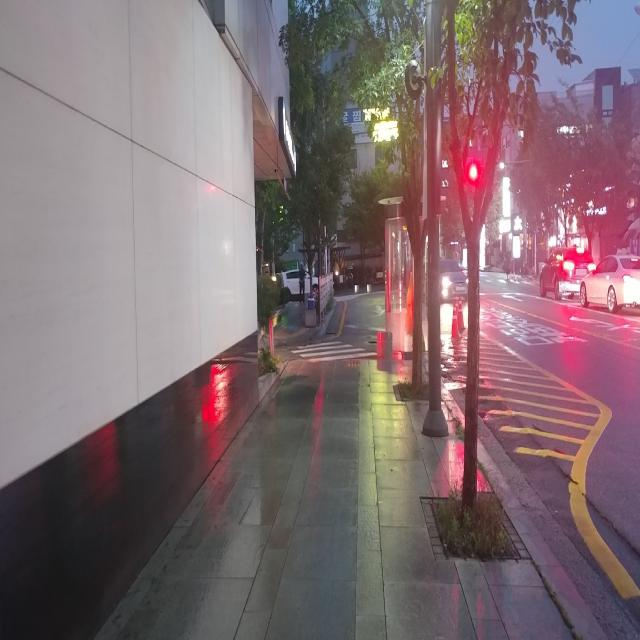횡단보도: (290, 340, 378, 362)
